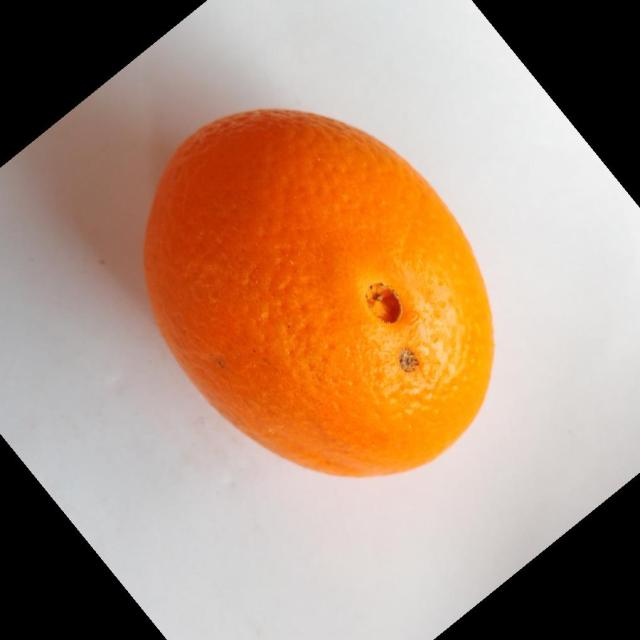fresh orange: (141, 106, 496, 478)
